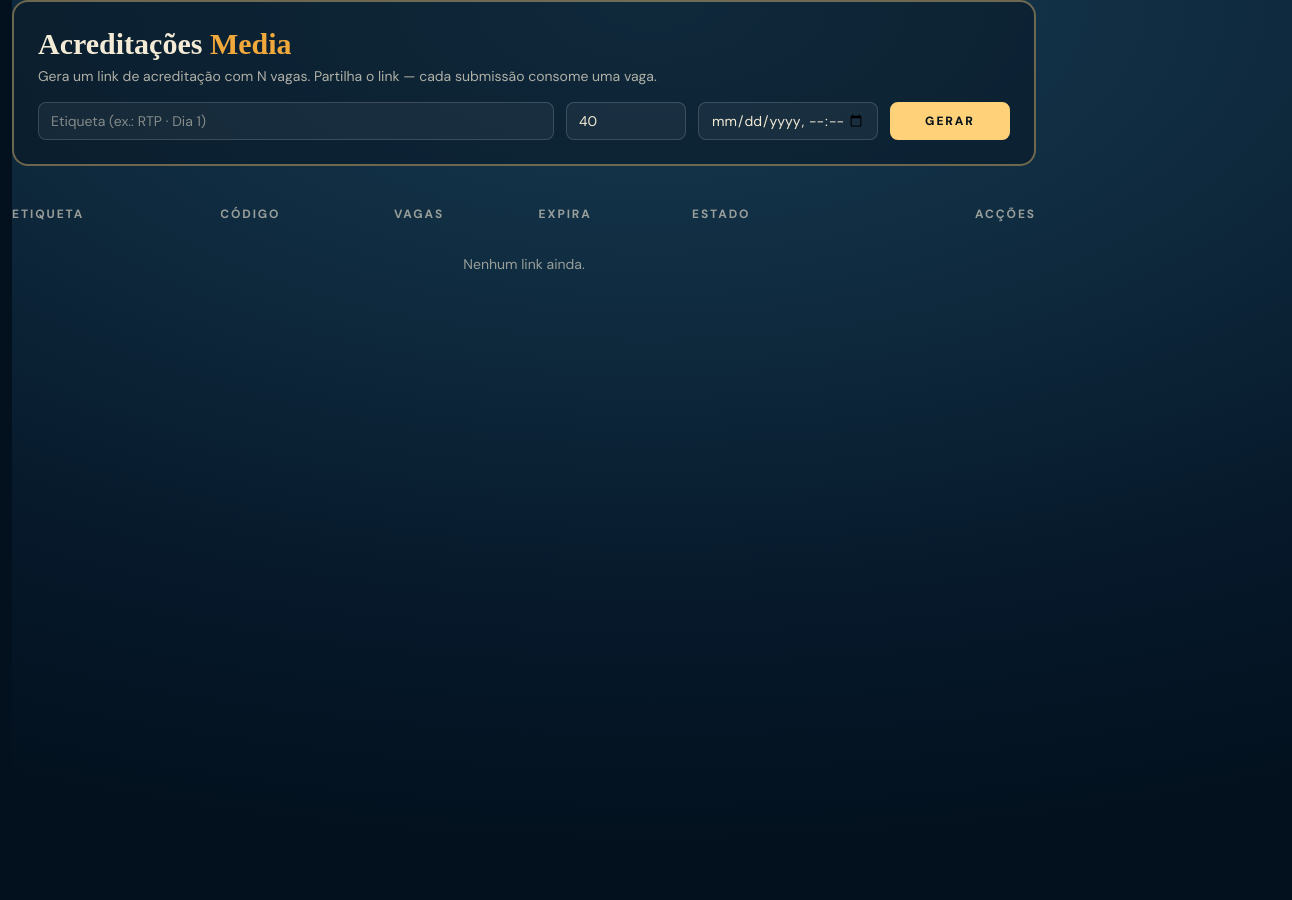
Test: AcreditacoesPanel › create flow: POST + refresh
Type "SIC" into the field with placeholder "Etiqueta (ex.: RTP · Dia 1)" at (296, 121), box [38,102,554,140]
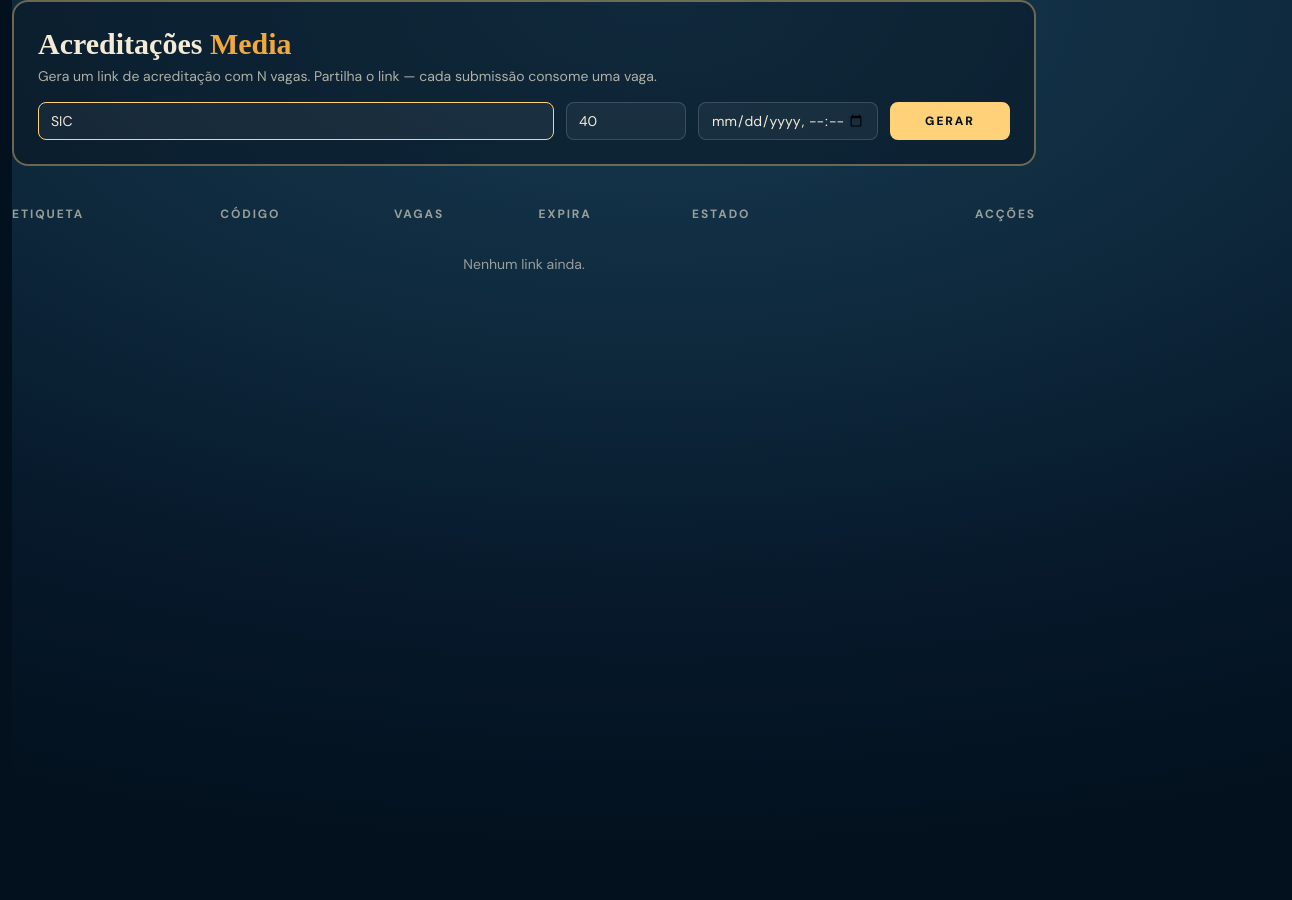
Click the button "Gerar" at (950, 121), box [890,102,1010,140]
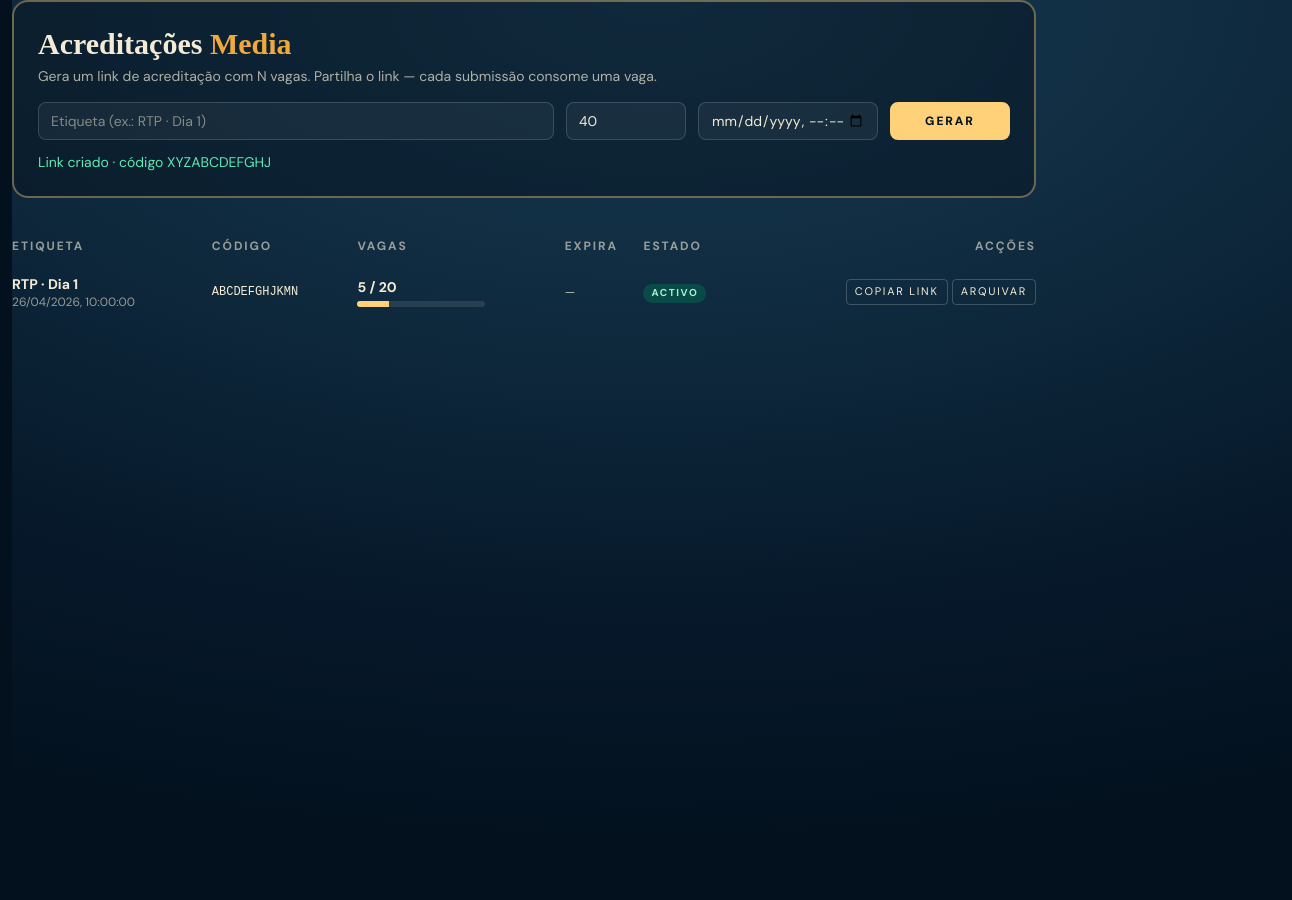
expect the message shows "Link criado": met, box [38,153,271,171]
